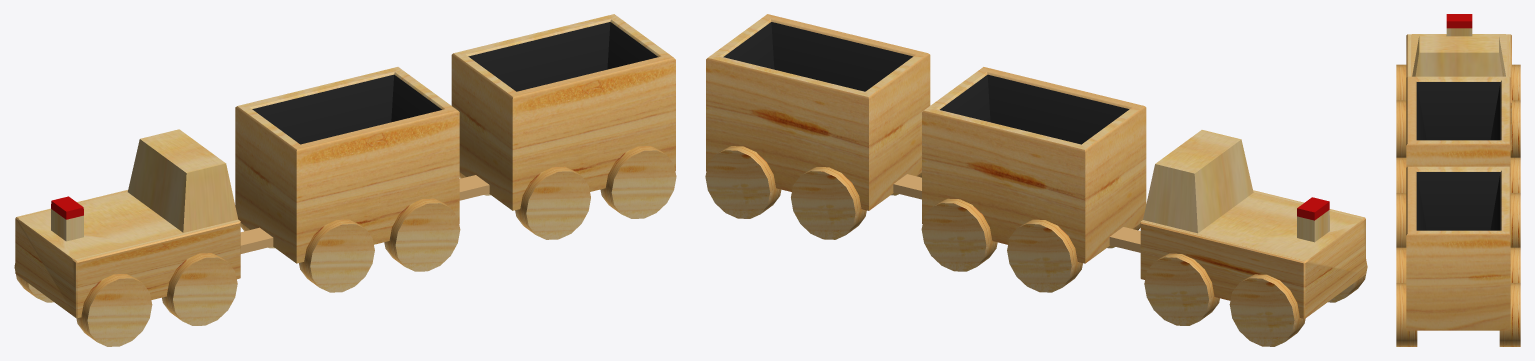
Rendered from train_flat.dae.
3 renders of one model, left to right at view 1: azimuth 30°, elevation 25°; view 2: azimuth 150°, elevation 25°; view 3: azimuth 270°, elevation 25°, orthographic. The views are drawn at different scales.
Parts seen in each view (by area): view 1: Wagon1, Wagon2, EngineCar; view 2: Wagon1, Wagon2, EngineCar; view 3: Wagon2, Wagon1, EngineCar.
Boxes of the visible parts, x1,y1,x2,y2 form: Wagon1: (235, 67, 460, 292); Wagon2: (451, 14, 676, 239); EngineCar: (14, 129, 240, 346); Wagon1: (921, 67, 1146, 292); Wagon2: (705, 14, 930, 239); EngineCar: (1140, 130, 1367, 346); Wagon2: (1396, 166, 1520, 346); Wagon1: (1396, 76, 1520, 247); EngineCar: (1396, 14, 1520, 157).
Size of the model in its own units: 27.73 by 6.5 by 5.85.
4 materials, 2 textured.
